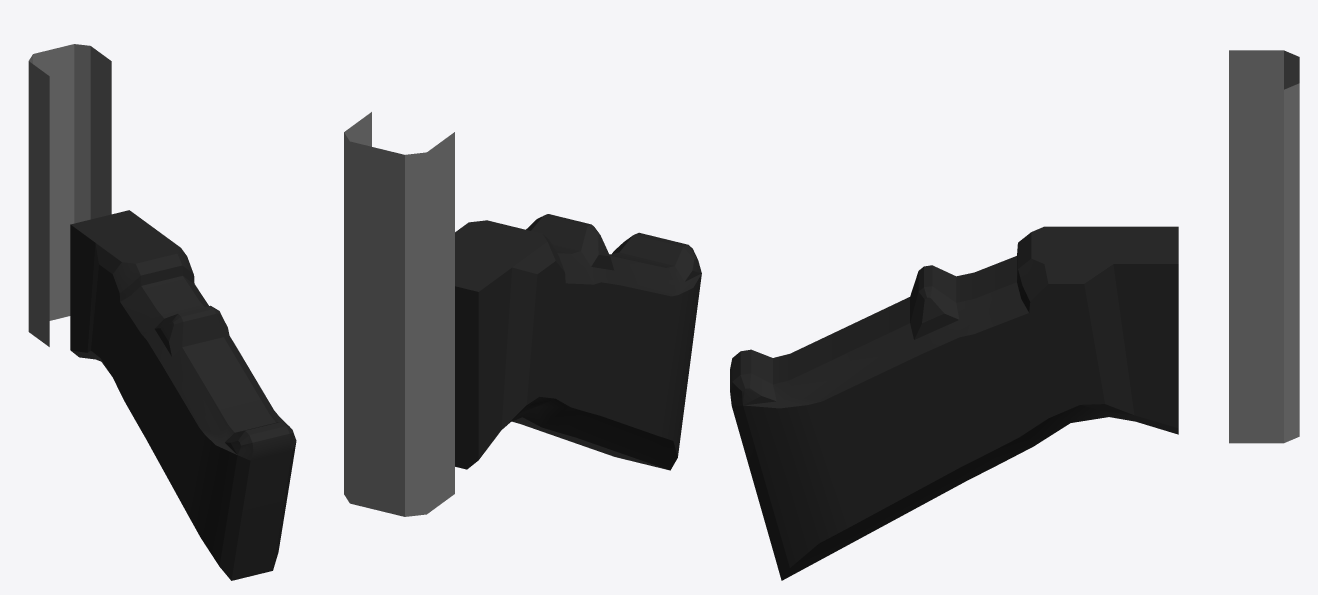
File: Wea_WoBa_off.FBX
3 renders of one model, left to right at view 1: azimuth 30°, elevation 25°; view 2: azimuth 150°, elevation 25°; view 3: azimuth 270°, elevation 25°, orthographic. The views are drawn at different scales.
Visible parts, largest first — view 1: Box002; view 2: Box002; view 3: Box002.
Boxes of the visible parts, x1,y1,x2,y2 form: Box002: (28,44,296,580); Box002: (344,112,701,516); Box002: (730,50,1299,580).
Bounding box in the file's own units: 0.4456 × 2.3 × 2.26.
